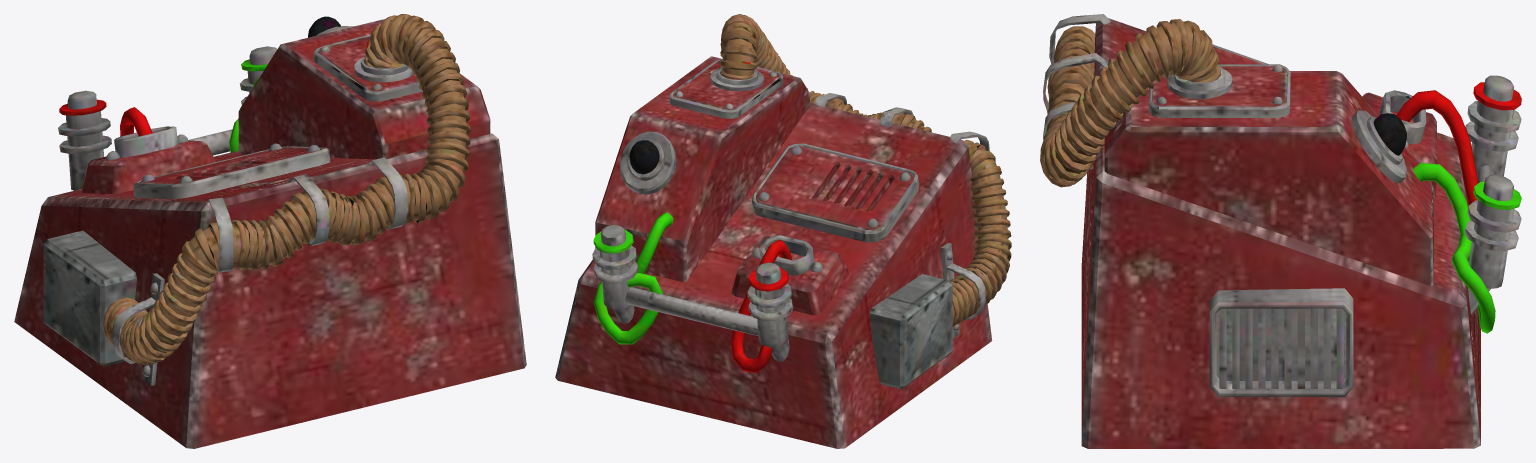
The model's file is constant-combinator.glb.
The picture shows the model from 3 angles, left to right: view 1: azimuth 30°, elevation 25°; view 2: azimuth 150°, elevation 25°; view 3: azimuth 270°, elevation 25°; orthographic projection. The views are drawn at different scales.
Parts seen in each view (by area): view 1: body; view 2: body; view 3: body.
Boxes of the visible parts, x1,y1,x2,y2 form: body: (14, 14, 526, 448); body: (555, 14, 1011, 448); body: (1040, 14, 1521, 448).
Size of the model in its own units: 0.9456 by 0.809 by 0.923.
Materials: 1 (1 with a texture image).
